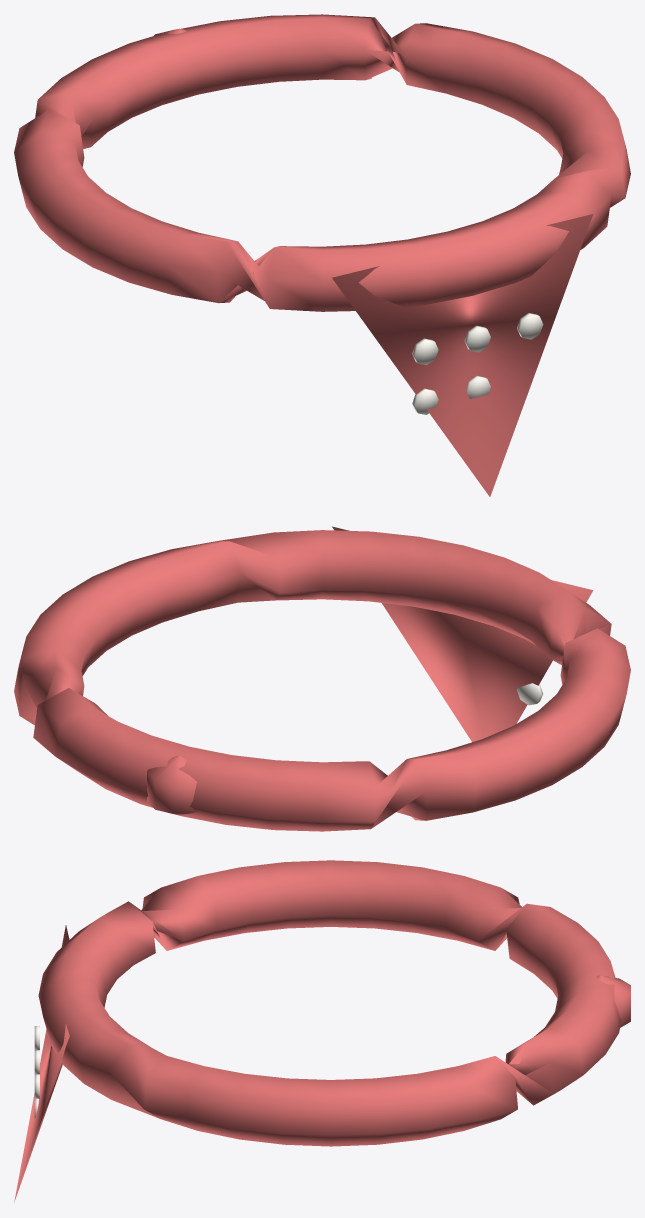
File: acc-bandana.glb
3 views of the same model, one above another, from view 1: azimuth 30°, elevation 25°; view 2: azimuth 150°, elevation 25°; view 3: azimuth 270°, elevation 25° (orthographic). The views are drawn at different scales.
Parts seen in each view (by area): view 1: band, triangle; view 2: band, triangle, knot, dot3; view 3: band, triangle, knot.
Boxes of the visible parts, left/top/right/bottom form: band: left=14, top=14, right=630, bottom=311; triangle: left=332, top=214, right=593, bottom=496; band: left=14, top=530, right=630, bottom=831; triangle: left=332, top=526, right=593, bottom=742; knot: left=147, top=755, right=196, bottom=815; dot3: left=517, top=683, right=543, bottom=705; band: left=38, top=860, right=621, bottom=1146; triangle: left=14, top=925, right=69, bottom=1202; knot: left=596, top=975, right=630, bottom=1027.
Size of the model in its own units: 2.25 by 0.9789 by 2.37.
